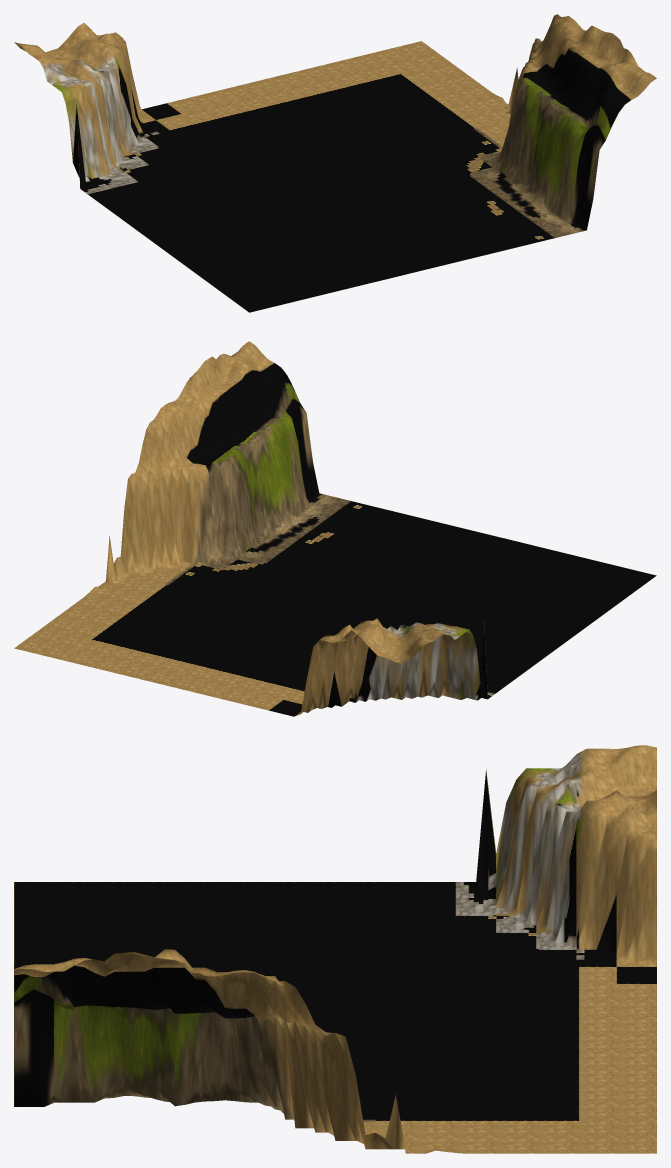
File: terrain.glb
3 views of the same model, one above another, from view 1: azimuth 30°, elevation 25°; view 2: azimuth 150°, elevation 25°; view 3: azimuth 270°, elevation 25° (orthographic). The views are drawn at different scales.
Parts seen in each view (by area): view 1: terrain_3_1; view 2: terrain_3_1; view 3: terrain_3_1.
Part boxes in pixels (x1,y1,x2,y2): terrain_3_1: [14, 14, 656, 312]; terrain_3_1: [14, 341, 656, 716]; terrain_3_1: [14, 745, 656, 1153].
Bounding box in the file's own units: 512 × 177 × 512.
Materials: 1 (1 with a texture image).
